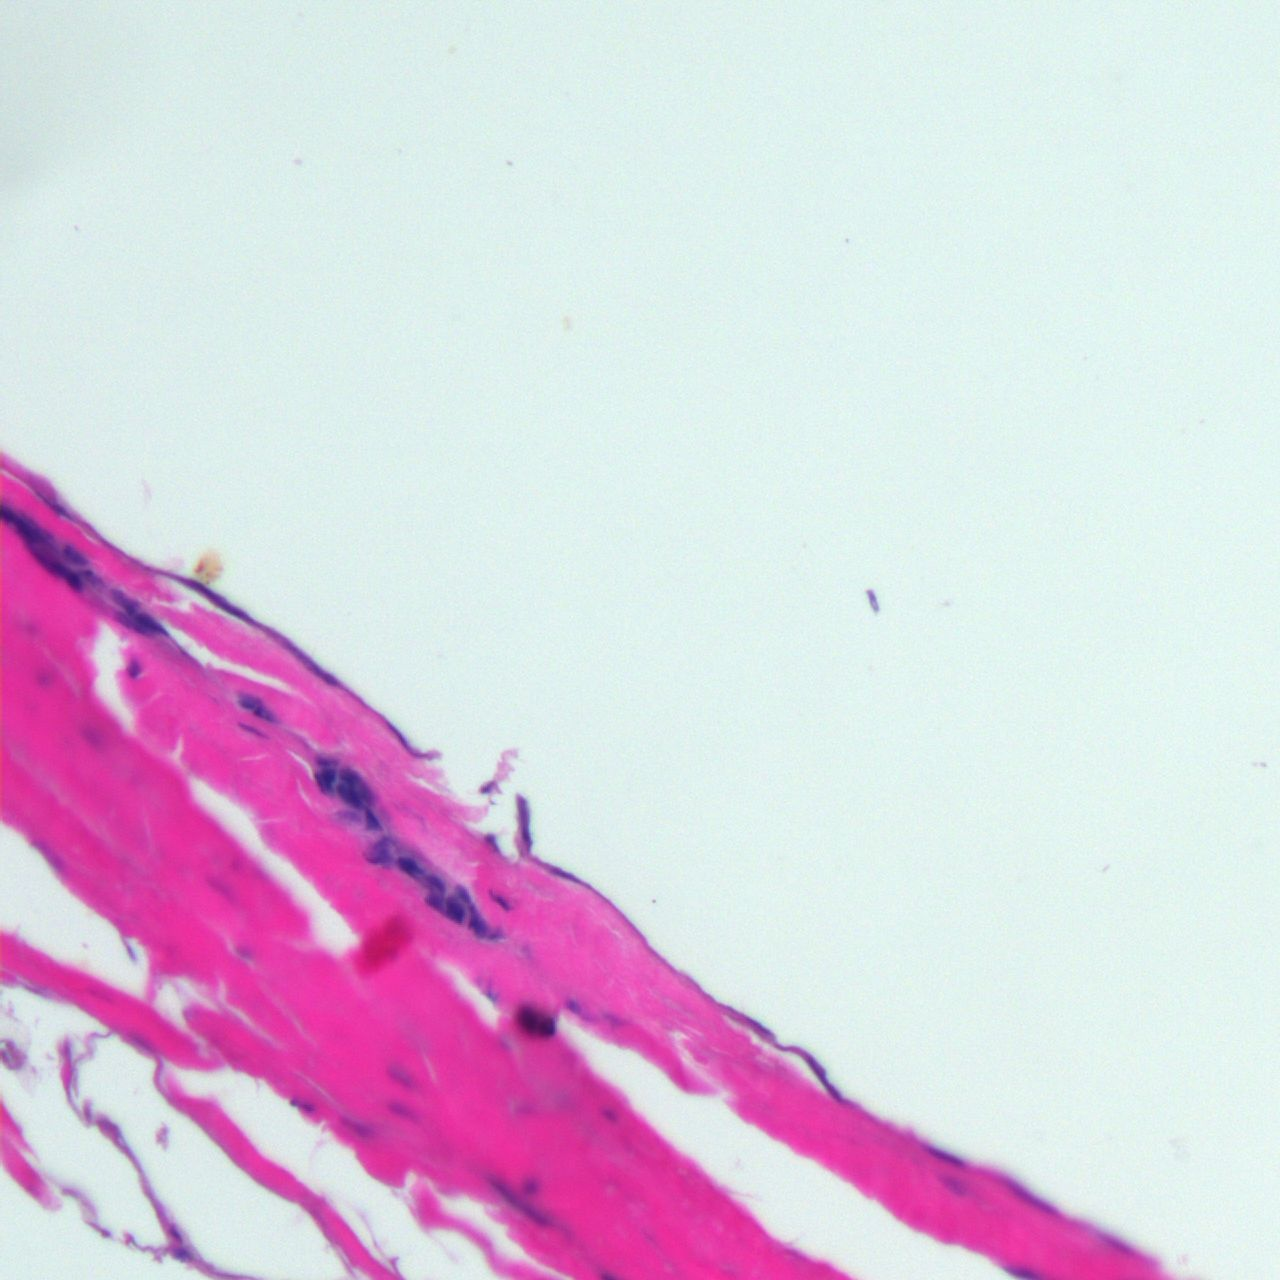nucleus-HE: (482, 1171, 561, 1235), (327, 762, 380, 815), (236, 689, 280, 727), (515, 792, 535, 853), (107, 583, 142, 617), (922, 1142, 962, 1171), (50, 560, 86, 593), (136, 610, 170, 641), (394, 850, 423, 881), (315, 754, 338, 795), (60, 543, 90, 570), (468, 904, 486, 937), (486, 888, 512, 912), (515, 1002, 535, 1032), (425, 871, 449, 896), (445, 898, 465, 922), (452, 881, 474, 903), (522, 1175, 542, 1194), (125, 654, 141, 679), (365, 809, 381, 831), (288, 1096, 314, 1110), (484, 831, 498, 855), (425, 892, 443, 910), (565, 998, 581, 1015), (542, 1014, 554, 1034)
